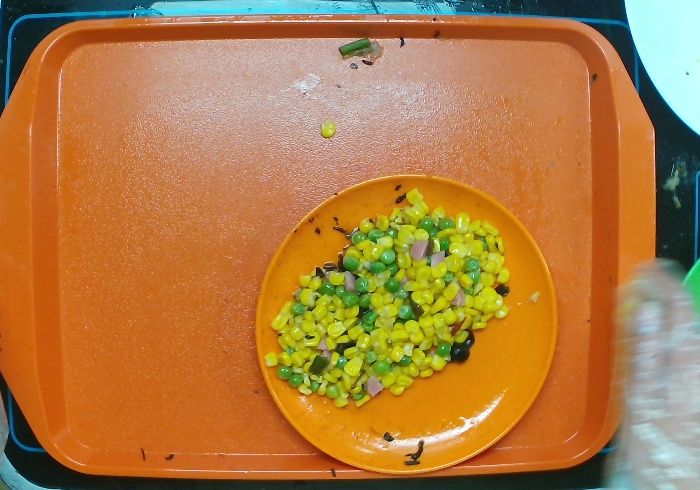HZYJPL-Ju_Huang_Yuan_Pan: (244, 163, 566, 484)
